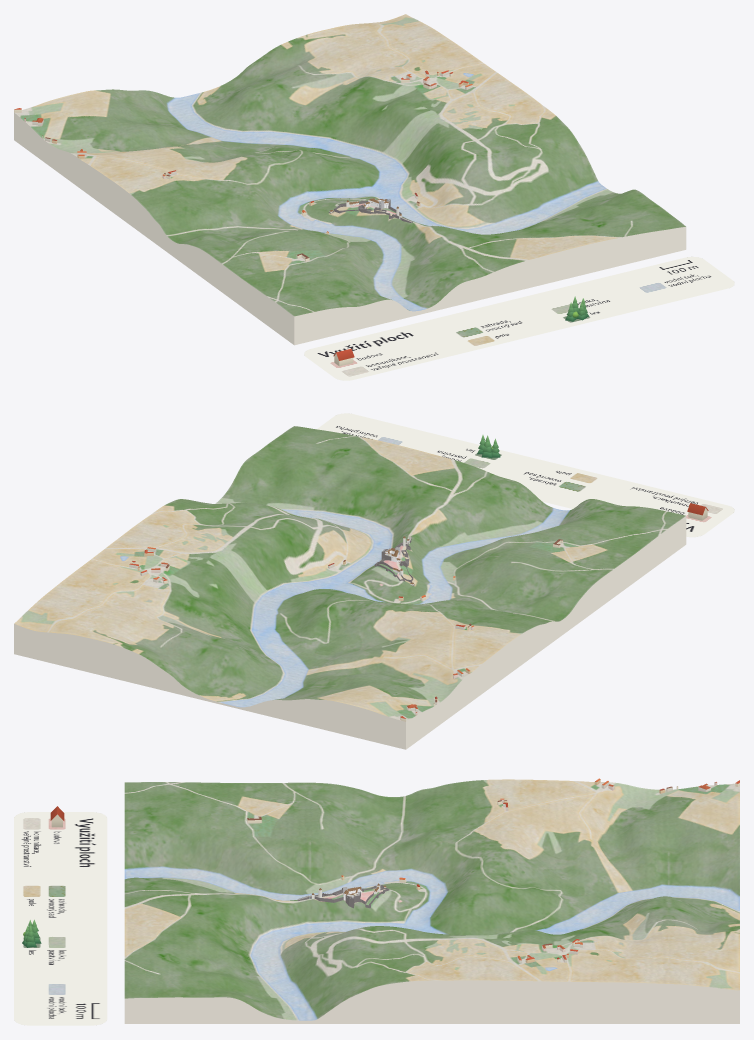
The model's file is Zvikov_base_SMO5.glb.
3 views of the same model, one above another, from view 1: azimuth 30°, elevation 25°; view 2: azimuth 150°, elevation 25°; view 3: azimuth 270°, elevation 25° (orthographic). The views are drawn at different scales.
Visible parts, largest first — view 1: DMR_1953, legenda_panel, Zvikov_SMO5_budovy, Node0, legenda_objekty; view 2: DMR_1953, legenda_panel, Zvikov_SMO5_budovy, Node0, legenda_objekty; view 3: DMR_1953, legenda_panel, Zvikov_SMO5_budovy, Node0, legenda_objekty.
Boxes of the visible parts, x1,y1,x2,y2 form: DMR_1953: (14, 14, 686, 345); legenda_panel: (304, 256, 734, 380); Zvikov_SMO5_budovy: (14, 70, 472, 261); Node0: (328, 198, 412, 222); legenda_objekty: (333, 296, 589, 366); DMR_1953: (14, 426, 686, 749); legenda_panel: (317, 413, 734, 537); Zvikov_SMO5_budovy: (129, 539, 562, 721); Node0: (374, 536, 414, 586); legenda_objekty: (477, 435, 708, 520); DMR_1953: (124, 779, 739, 1023); legenda_panel: (14, 812, 107, 1025); Zvikov_SMO5_budovy: (247, 778, 739, 963); Node0: (297, 883, 389, 908); legenda_objekty: (22, 806, 64, 947).
Bounding box in the file's own units: 1490 × 152 × 2141.
4 materials, 2 textured.
